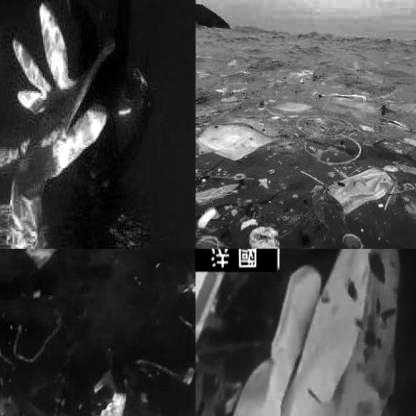Mask: (326, 164, 396, 214), (25, 249, 66, 273)
glove: (201, 249, 415, 415), (5, 2, 120, 247)
